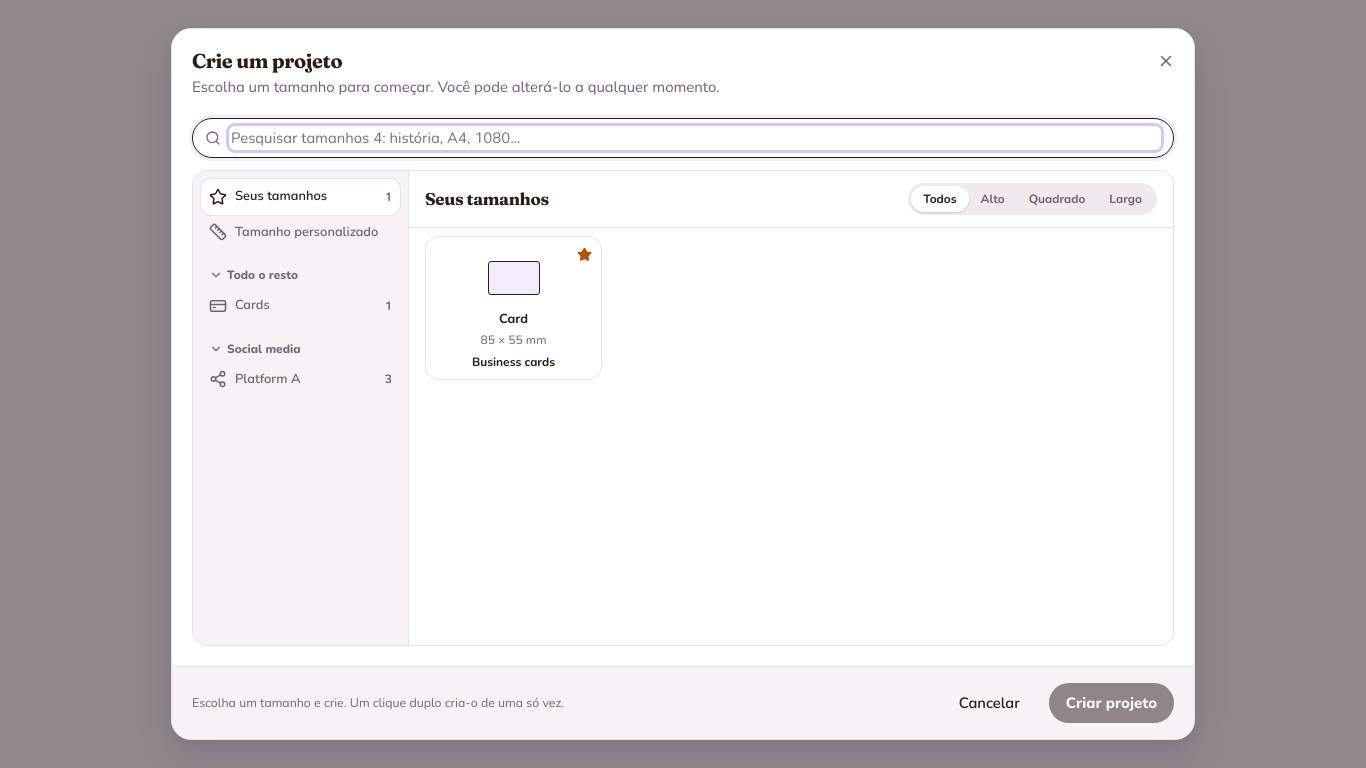
Scenario: Create a design dialog › searches every size and names where each one is
This screenshot has width=1366, height=768.
Type "1:1" into the search field named "Tamanhos de pesquisa".
click(695, 138); type("1:1")  # box [229,126,1161,150]
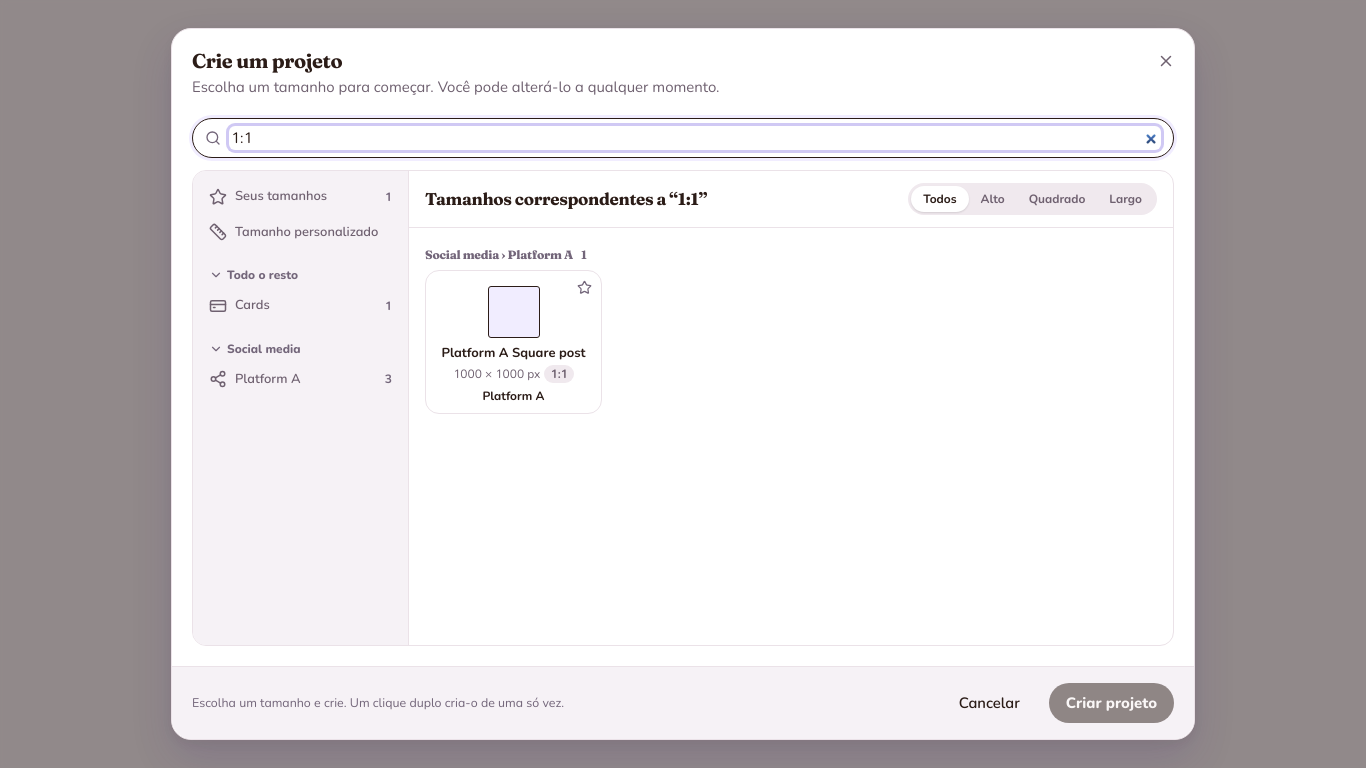
Expected: the text "Platform A" below "Social media › Platform A" is shown, [482,388,544,404]
Replace the text in the search field named "Tamanhos de pesquisa" with "zzzz" at (695, 138), box [229,126,1161,150]
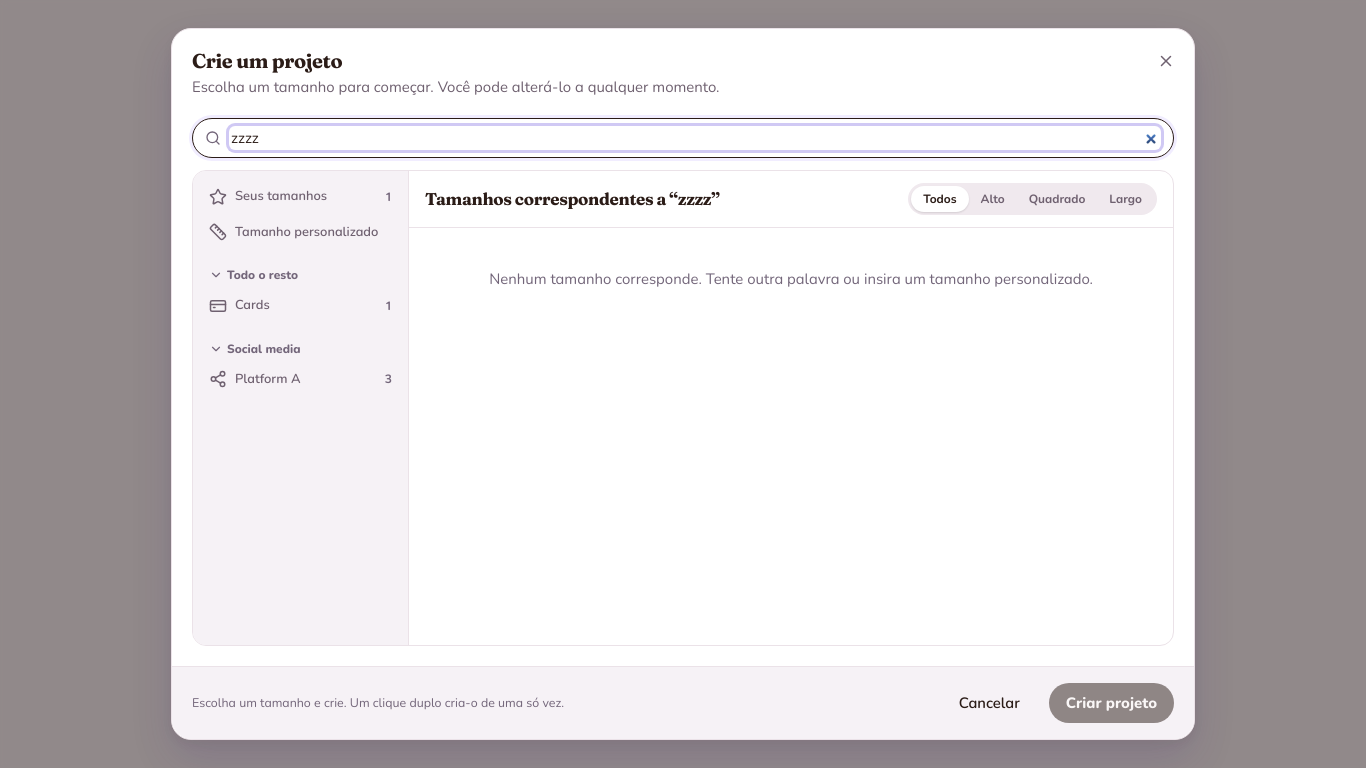
Expected: the text "Nenhum tamanho corresponde" is shown, [489,269,1093,289]
